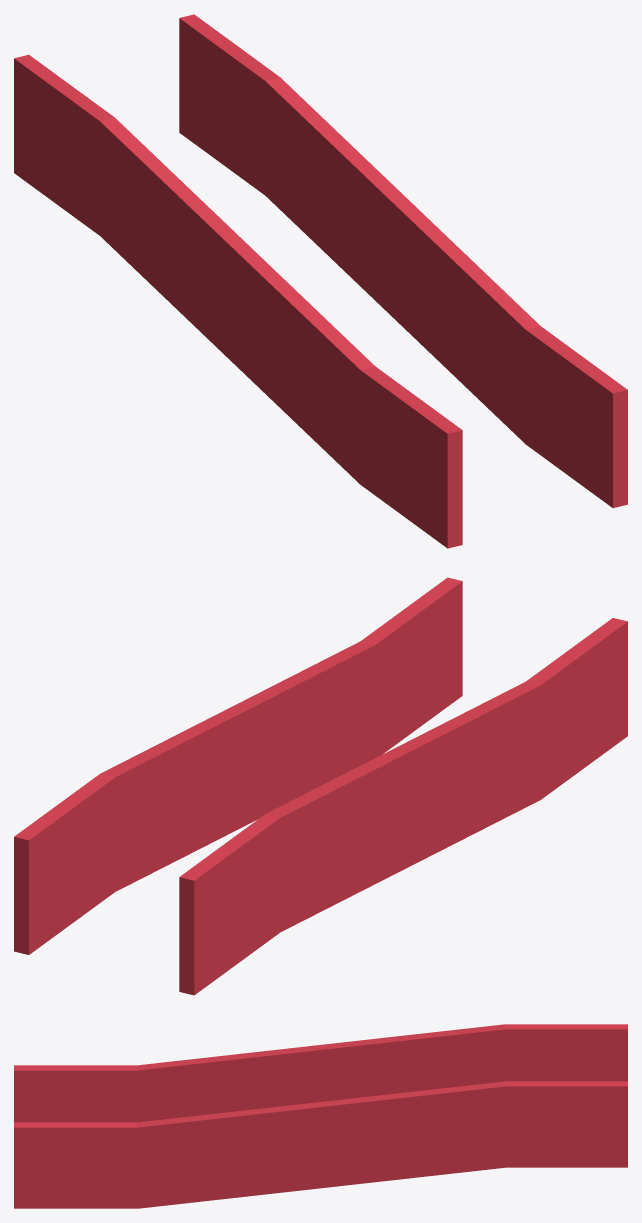
File: slope_up_collision.fbx
3 renders of one model, top to bottom at view 1: azimuth 30°, elevation 25°; view 2: azimuth 150°, elevation 25°; view 3: azimuth 270°, elevation 25°, orthographic. The views are drawn at different scales.
Visible parts, largest first — view 1: slope_up_collision; view 2: slope_up_collision; view 3: slope_up_collision.
Part boxes in pixels (x1,y1,x2,y2): slope_up_collision: (14, 14, 627, 548); slope_up_collision: (14, 577, 627, 995); slope_up_collision: (14, 1024, 627, 1208).
Bounding box in the file's own units: 1200 × 1099 × 4999.
